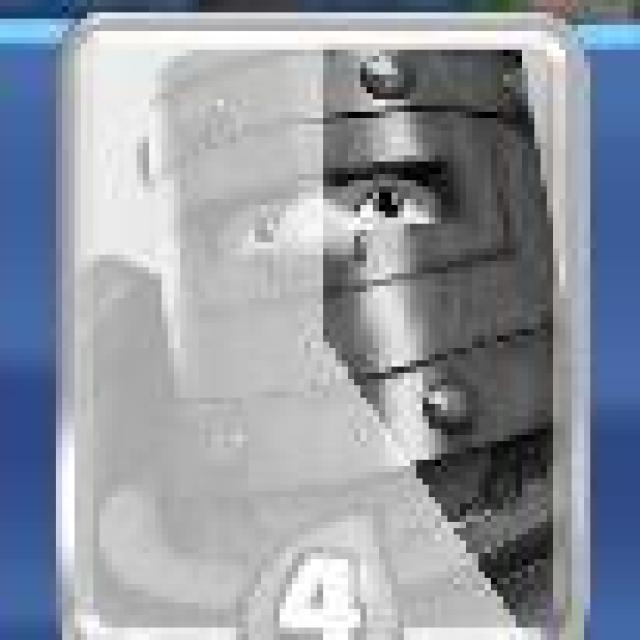Dark_Prince: (51, 14, 591, 640)
